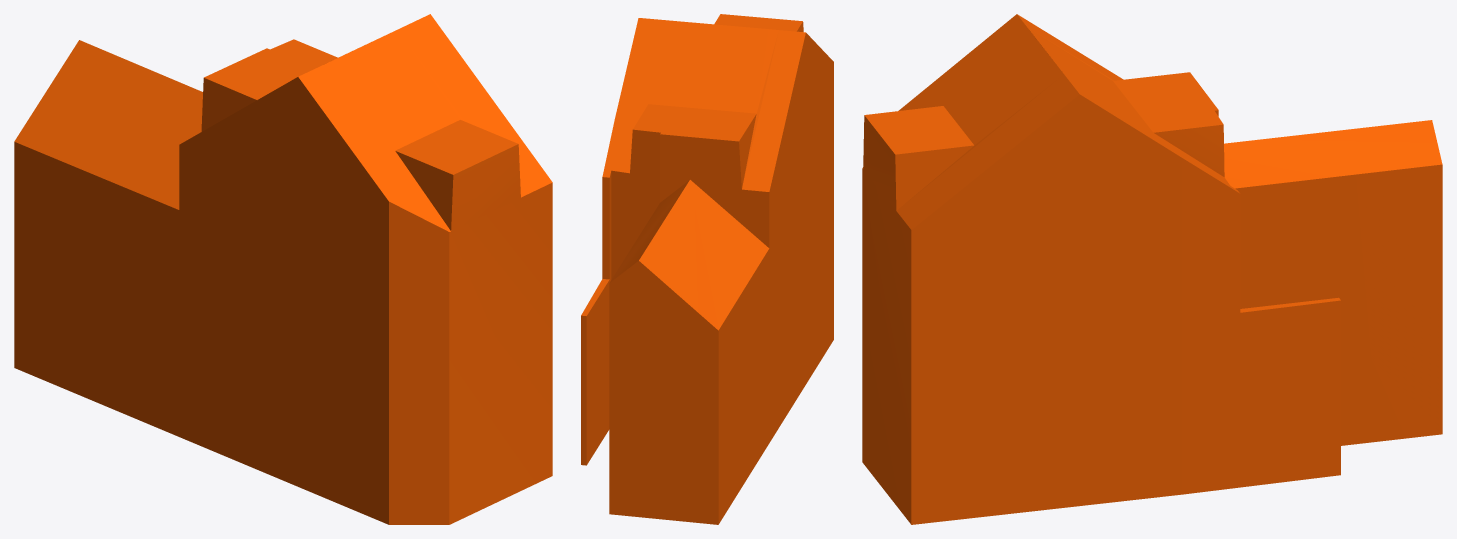
File: DEHB01ALn0001O8d.dae
3 renders of one model, left to right at view 1: azimuth 30°, elevation 25°; view 2: azimuth 150°, elevation 25°; view 3: azimuth 270°, elevation 25°, orthographic. The views are drawn at different scales.
Size of the model in its own units: 9.91 by 16.91 by 13.25.
